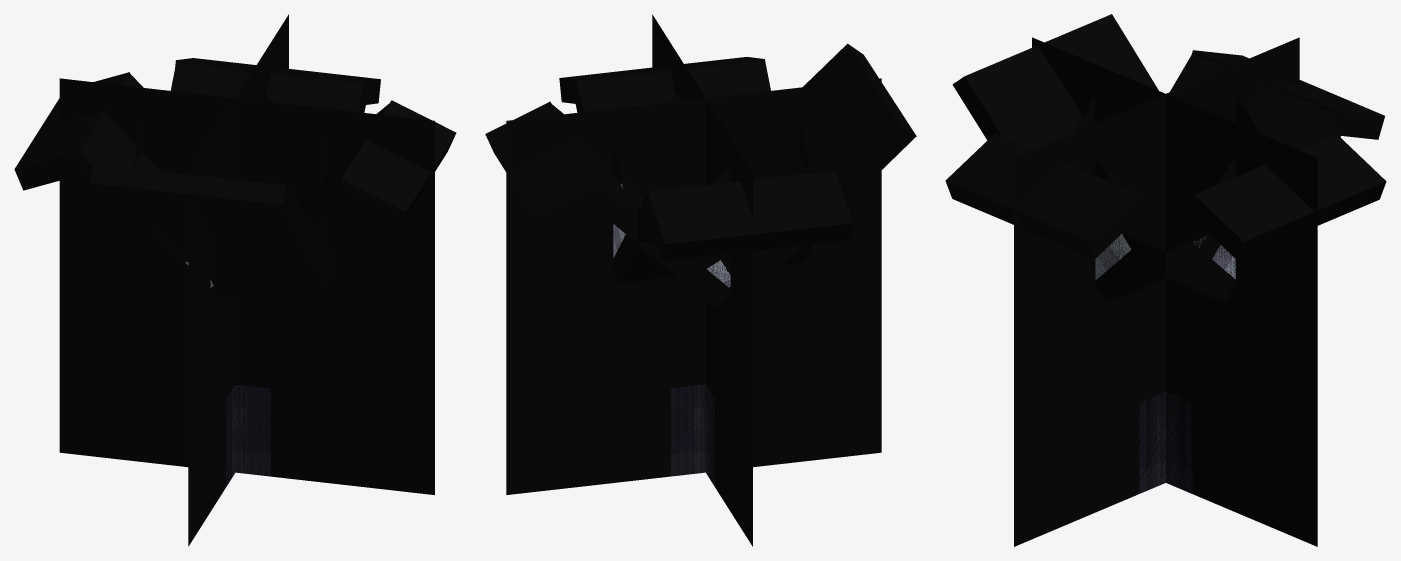
File: dyescrapia_plant.obj
3 views of the same model, side by side, from view 1: azimuth 30°, elevation 25°; view 2: azimuth 150°, elevation 25°; view 3: azimuth 270°, elevation 25° (orthographic). The views are drawn at different scales.
Visible parts, largest first — view 1: cube; view 2: cube; view 3: cube.
Boxes of the visible parts, x1,y1,x2,y2 form: cube: (14,14,456,546); cube: (485,14,916,546); cube: (945,14,1386,546).
Size of the model in its own units: 1.09 by 1.06 by 1.09.
